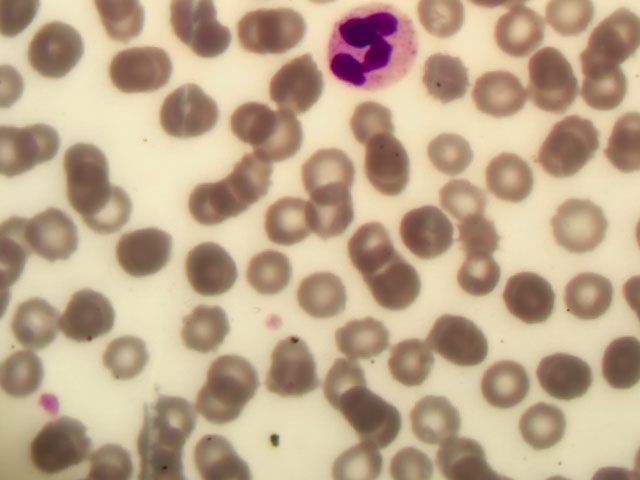Platelets: (260, 310, 287, 337), (36, 391, 62, 415)
RBC: (23, 23, 85, 82), (93, 41, 155, 100), (137, 41, 199, 100), (158, 82, 220, 141), (53, 129, 115, 188), (61, 164, 123, 223), (74, 182, 136, 241), (27, 205, 89, 264), (12, 296, 74, 355), (56, 284, 118, 343), (95, 331, 157, 390), (140, 391, 202, 450), (29, 420, 91, 479), (81, 421, 143, 480), (187, 382, 249, 441), (201, 352, 263, 411), (180, 305, 242, 364), (185, 239, 247, 298), (108, 225, 170, 284), (168, 179, 230, 238), (199, 164, 261, 223), (224, 143, 286, 202), (243, 106, 305, 165), (229, 96, 291, 155), (263, 58, 325, 117), (258, 4, 320, 63), (235, 2, 297, 61), (173, 3, 235, 62), (412, 50, 474, 109), (458, 69, 520, 128), (422, 115, 484, 174), (362, 135, 424, 194), (343, 92, 405, 151), (301, 135, 363, 194), (301, 185, 363, 244), (262, 193, 324, 252), (242, 240, 304, 299), (292, 263, 354, 322), (337, 216, 399, 275), (366, 257, 428, 316), (399, 201, 461, 260), (431, 170, 493, 229), (442, 194, 504, 253), (440, 240, 502, 299), (431, 309, 493, 368), (378, 333, 440, 392), (339, 310, 401, 369), (323, 343, 385, 402), (328, 375, 390, 434), (342, 401, 404, 460), (261, 337, 323, 396), (478, 357, 540, 416), (509, 397, 571, 456), (531, 347, 593, 406), (501, 270, 563, 329), (556, 265, 618, 324), (549, 198, 611, 257), (478, 150, 540, 209), (529, 133, 591, 192), (537, 114, 599, 173), (521, 46, 583, 105), (578, 63, 640, 122), (1, 124, 62, 183), (1, 331, 62, 390), (489, 1, 551, 59), (592, 334, 640, 402)
WBC: (330, 4, 419, 93)
